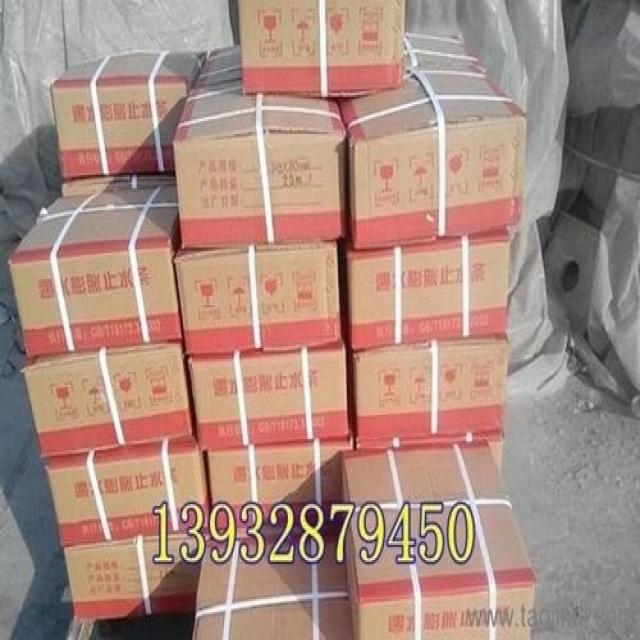box: (340, 439, 538, 640), (338, 65, 526, 249), (8, 184, 182, 359), (174, 78, 348, 247), (20, 340, 196, 458), (346, 223, 509, 350), (50, 52, 207, 179), (191, 521, 355, 640), (174, 240, 342, 353), (45, 433, 211, 547), (188, 340, 349, 452), (352, 333, 508, 441), (238, 0, 406, 97), (209, 430, 355, 530), (64, 534, 210, 621), (357, 432, 503, 473), (404, 32, 486, 74), (63, 175, 175, 199), (189, 45, 241, 89)
